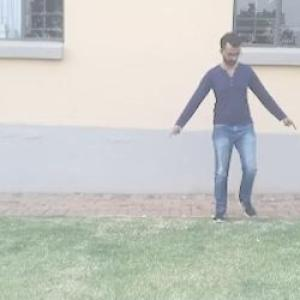land: (170, 20, 300, 246)
